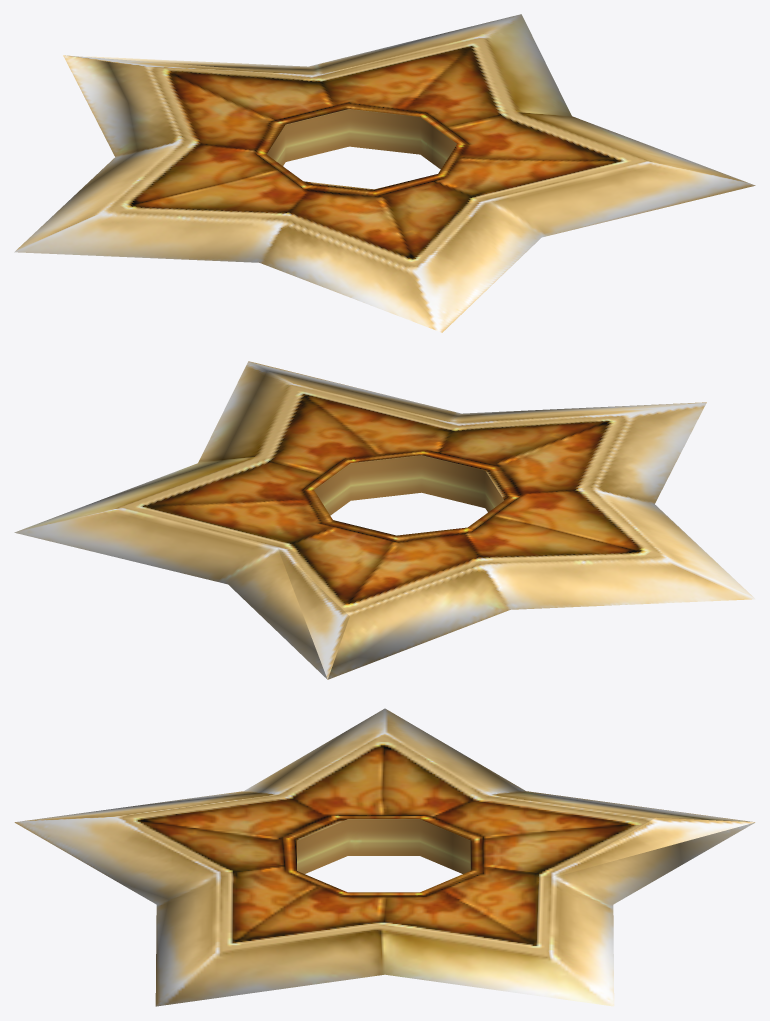
3 views of the same model, one above another, from view 1: azimuth 30°, elevation 25°; view 2: azimuth 150°, elevation 25°; view 3: azimuth 270°, elevation 25° (orthographic). The views are drawn at different scales.
Parts seen in each view (by area): view 1: w8_4R; view 2: w8_4R; view 3: w8_4R.
Part boxes in pixels (x1,y1,x2,y2): w8_4R: (14, 14, 755, 332); w8_4R: (14, 361, 755, 679); w8_4R: (14, 708, 755, 1006).
Bounding box in the file's own units: 26.61 × 1.53 × 27.98.
Materials: 1 (1 with a texture image).
